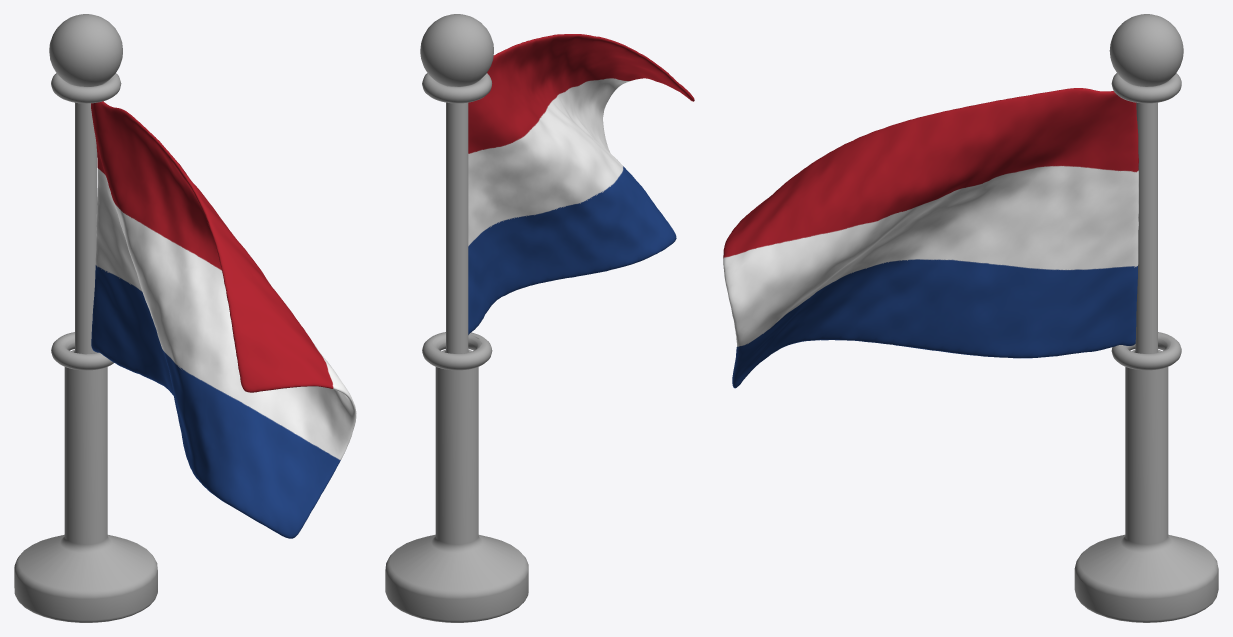
The picture shows the model from 3 angles, left to right: view 1: azimuth 30°, elevation 25°; view 2: azimuth 150°, elevation 25°; view 3: azimuth 270°, elevation 25°; orthographic projection.
Parts seen in each view (by area): view 1: Flag ShapeKeys_2_4, Circle, Sphere, Torus.002, Torus.001; view 2: Flag ShapeKeys_2_4, Circle, Sphere, Torus.001, Torus.002; view 3: Flag ShapeKeys_2_4, Circle, Sphere, Torus.001, Torus.002.
Part boxes in pixels (<box>): Flag ShapeKeys_2_4: <box>91,101,356,538</box>; Circle: <box>14,102,157,622</box>; Sphere: <box>49,14,122,86</box>; Torus.002: <box>51,73,121,103</box>; Torus.001: <box>51,332,113,370</box>; Flag ShapeKeys_2_4: <box>468,34,694,334</box>; Circle: <box>385,102,528,622</box>; Sphere: <box>420,14,493,86</box>; Torus.001: <box>422,332,492,370</box>; Torus.002: <box>422,73,492,103</box>; Flag ShapeKeys_2_4: <box>723,88,1138,388</box>; Circle: <box>1074,102,1218,622</box>; Sphere: <box>1109,14,1183,86</box>; Torus.001: <box>1111,332,1181,370</box>; Torus.002: <box>1111,73,1181,103</box>.
Bounding box in the file's own units: 0.9495 × 4.15 × 3.23.
Materials: 3 (1 with a texture image).
